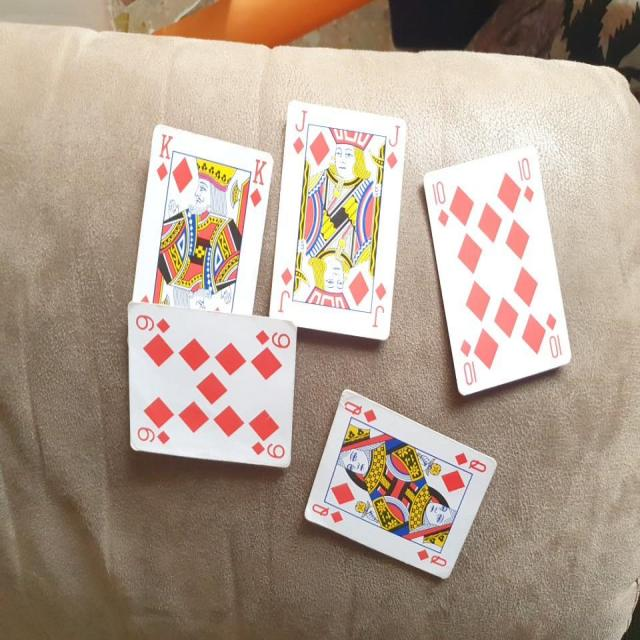10 Diamonds: (422, 145, 571, 396)
9 Diamonds: (126, 300, 296, 468)
J Diamonds: (267, 100, 408, 344)
K Diamonds: (131, 123, 274, 317)
Q Diamonds: (301, 388, 498, 584)
